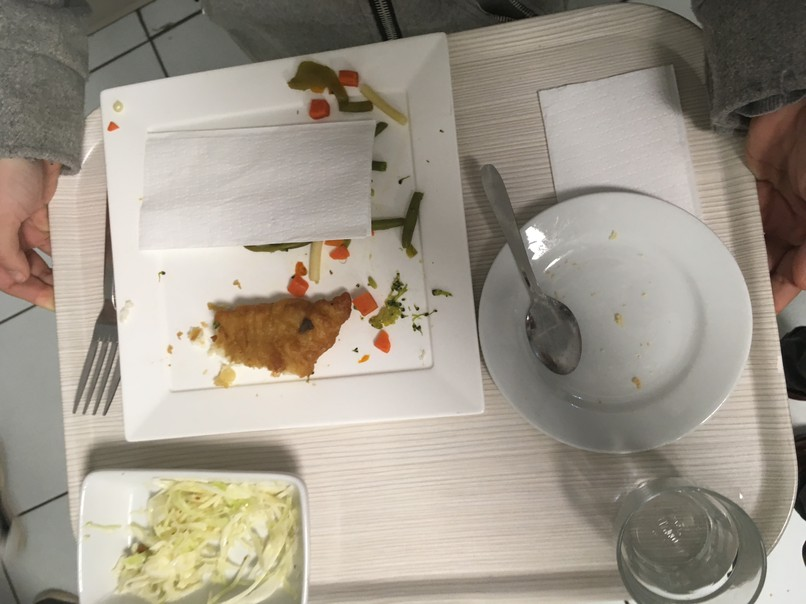orga: (126, 484, 291, 598), (201, 290, 354, 376), (287, 57, 407, 120)
trash: (140, 127, 378, 239), (534, 72, 698, 215)
